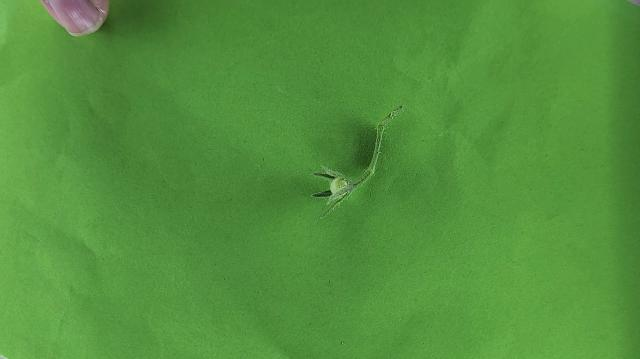Fruit Bud: (309, 166, 351, 199)
